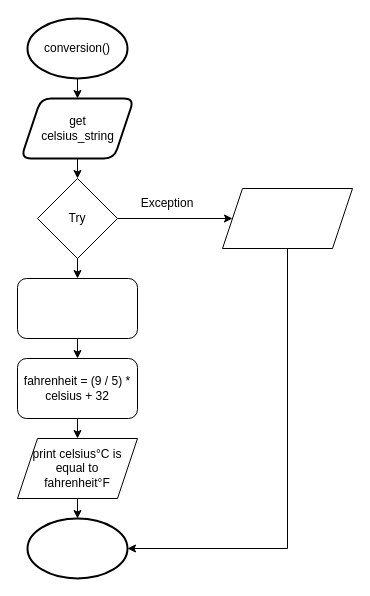
Image size: 370x596. Some labels were removed from this diagram. Each missing label, with the centre of its shape:
"convert celsius_string to int" goes at (x=77, y=308).
"print Your temperature is invalid. Please Re-Run." goes at (x=287, y=218).
"Stop" goes at (x=77, y=548).
